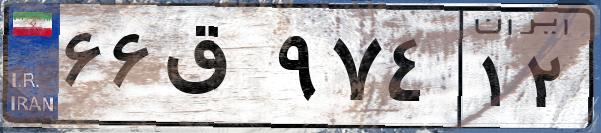1: (475, 38, 525, 113)
2: (525, 38, 570, 115)
4: (385, 28, 445, 110)
6: (57, 26, 110, 100), (110, 28, 158, 98)
7: (330, 28, 385, 110)
9: (270, 28, 330, 110)
ق: (158, 20, 270, 120)
